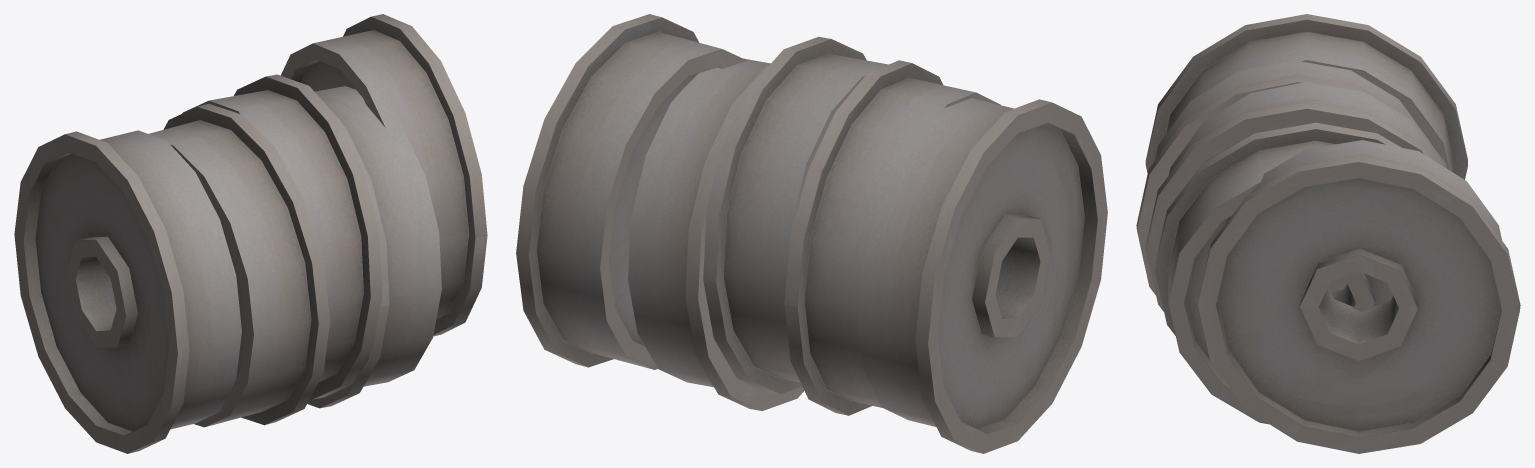
File: props_2fort_trainwheel002.glb
The picture shows the model from 3 angles, left to right: view 1: azimuth 30°, elevation 25°; view 2: azimuth 150°, elevation 25°; view 3: azimuth 270°, elevation 25°; orthographic projection. The views are drawn at different scales.
Parts seen in each view (by area): view 1: models/props_2fort/trainwheel002; view 2: models/props_2fort/trainwheel002; view 3: models/props_2fort/trainwheel002.
Boxes of the visible parts, x1,y1,x2,y2 form: models/props_2fort/trainwheel002: [14, 14, 487, 453]; models/props_2fort/trainwheel002: [516, 14, 1107, 453]; models/props_2fort/trainwheel002: [1136, 14, 1520, 453].
Size of the model in its own units: 44.28 by 38.84 by 42.91.
1 material, 1 textured.
